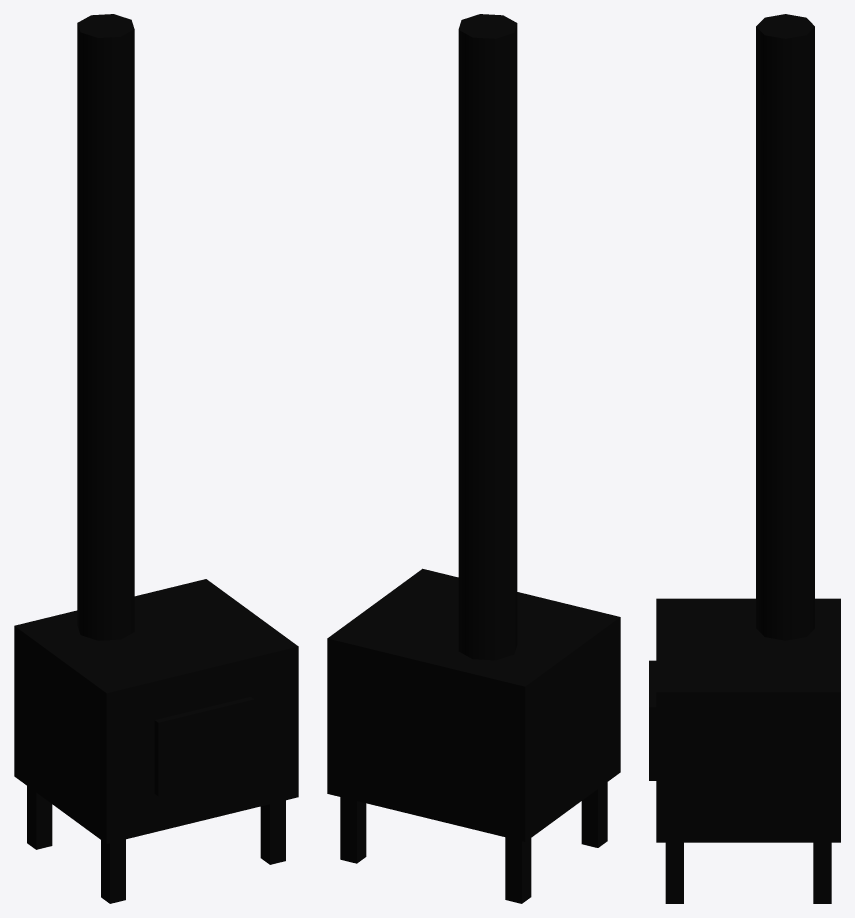
The model's file is SM_wood_stove.fbx.
3 renders of one model, left to right at view 1: azimuth 30°, elevation 25°; view 2: azimuth 150°, elevation 25°; view 3: azimuth 270°, elevation 25°, orthographic. The views are drawn at different scales.
Visible parts, largest first — view 1: wood_stove; view 2: wood_stove; view 3: wood_stove.
Part boxes in pixels (x1,y1,x2,y2): wood_stove: (14,14,298,903); wood_stove: (327,14,620,903); wood_stove: (649,14,840,903).
Bounding box in the file's own units: 0.6 × 2.45 × 0.52.
